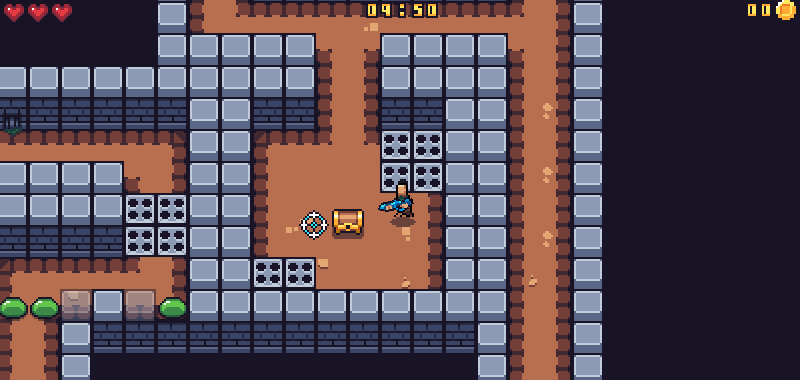enemy_slug: (28, 295, 64, 323), (155, 294, 189, 322), (0, 295, 28, 320)
trap_off: (124, 192, 188, 256), (379, 129, 445, 190), (250, 254, 317, 289)
treasury_close: (328, 204, 369, 239)
